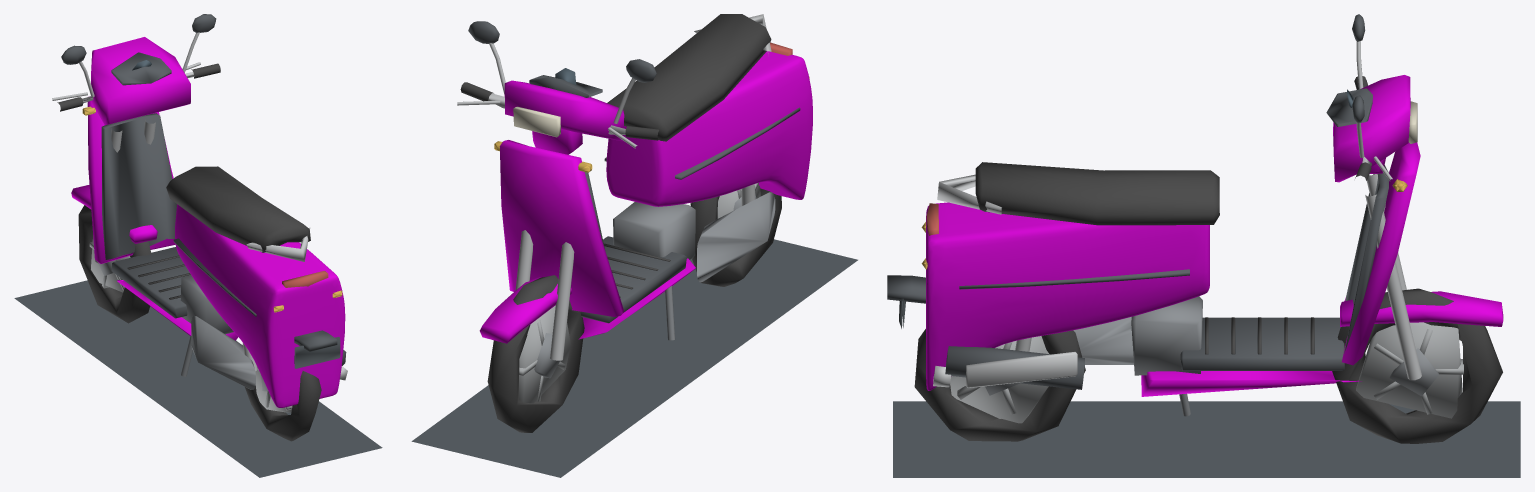
Rendered from motor_parkir.glb.
3 renders of one model, left to right at view 1: azimuth 30°, elevation 25°; view 2: azimuth 150°, elevation 25°; view 3: azimuth 270°, elevation 25°, orthographic. The views are drawn at different scales.
Parts seen in each view (by area): view 1: main; view 2: main; view 3: main.
Part boxes in pixels (left/top/right/bottom): main: left=14, top=14, right=382, bottom=477; main: left=411, top=14, right=857, bottom=477; main: left=887, top=14, right=1520, bottom=477.
Bounding box in the file's own units: 0.7253 × 1.29 × 1.92.
